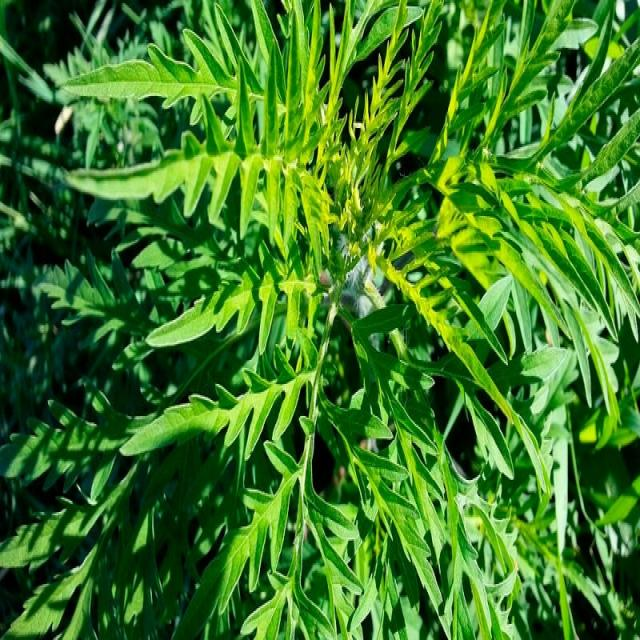ambrosia: (160, 320, 445, 640), (87, 6, 352, 257), (433, 47, 640, 331)
